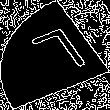L_SE: (20, 25, 90, 85)
